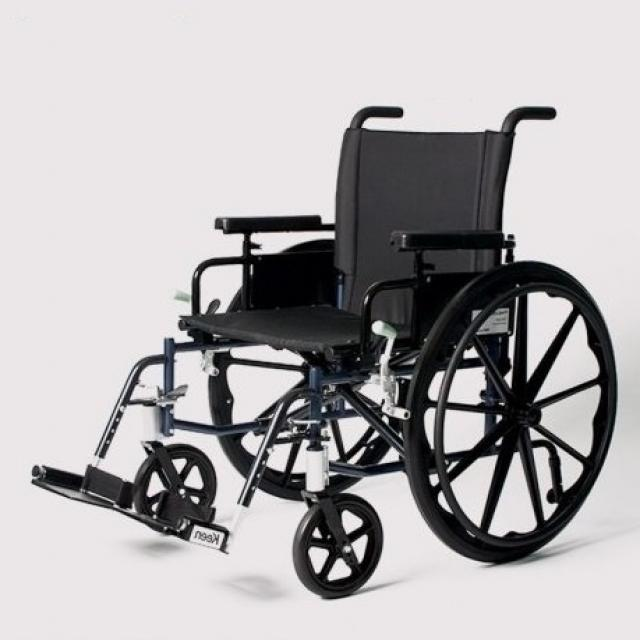wheelchair: (26, 52, 640, 624)
